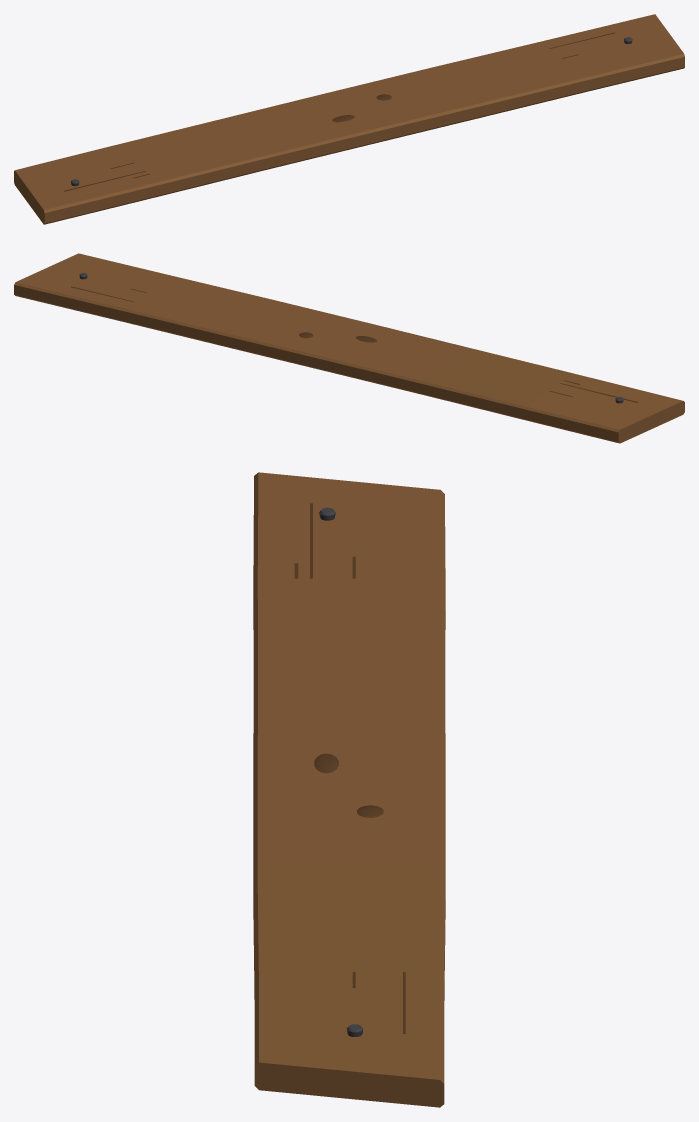
Rendered from plank.obj.
The picture shows the model from 3 angles, top to bottom: view 1: azimuth 30°, elevation 25°; view 2: azimuth 150°, elevation 25°; view 3: azimuth 270°, elevation 25°; orthographic projection. The views are drawn at different scales.
Visible parts, largest first — view 1: plank; view 2: plank; view 3: plank.
Boxes of the visible parts, bbox=[...] form: plank: bbox=[14, 14, 684, 224]; plank: bbox=[14, 253, 684, 443]; plank: bbox=[253, 472, 445, 1107].
Bounding box in the file's own units: 1.65 × 0.0445 × 0.2207.
